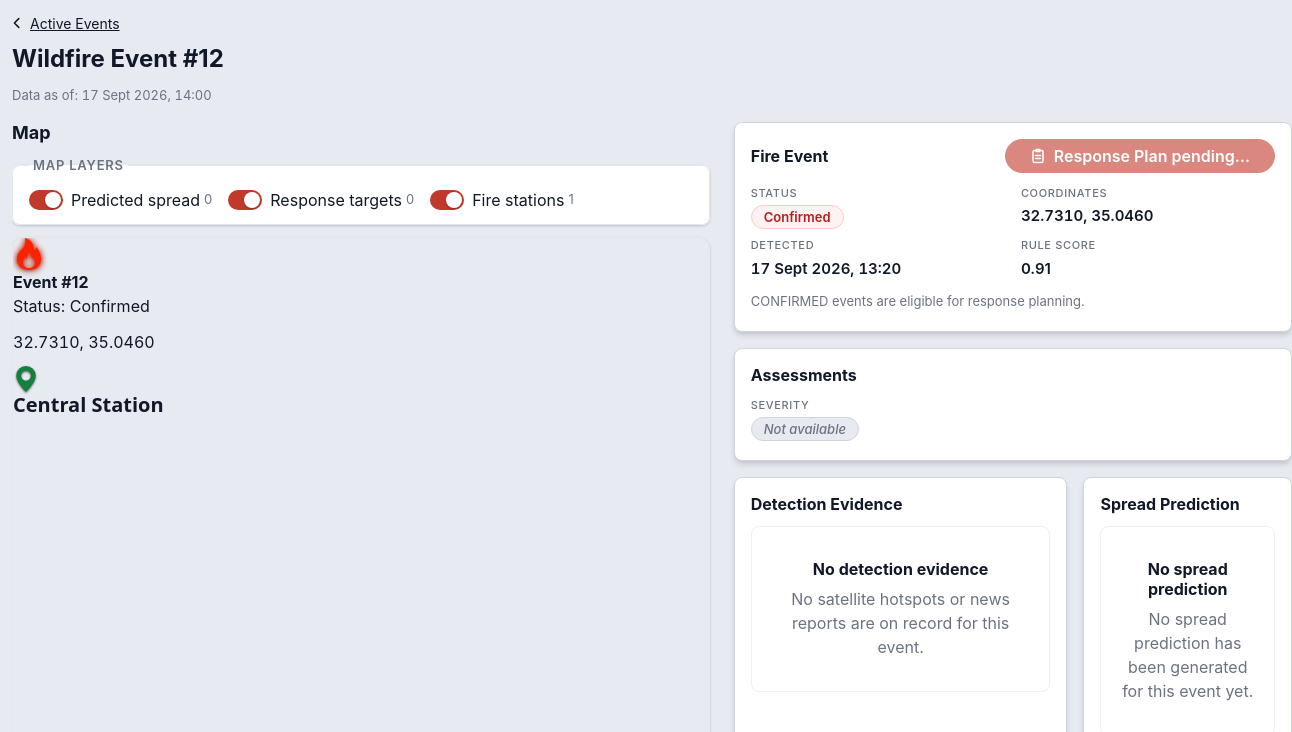
Test: EventDetailsPage › hides a layer's markers when its layer control is unchecked
The image size is (1292, 732).
expect the text "Data as of:" is shown: met, box x1=12 y1=87 x2=82 y2=103
expect the number of elements with test id "marker" is 2: met, box x1=13 y1=238 x2=155 y2=352; x1=13 y1=366 x2=164 y2=418
Click the checkbox labelled "Fire stations 1" at [447, 200], box x1=430 y1=190 x2=464 y2=210
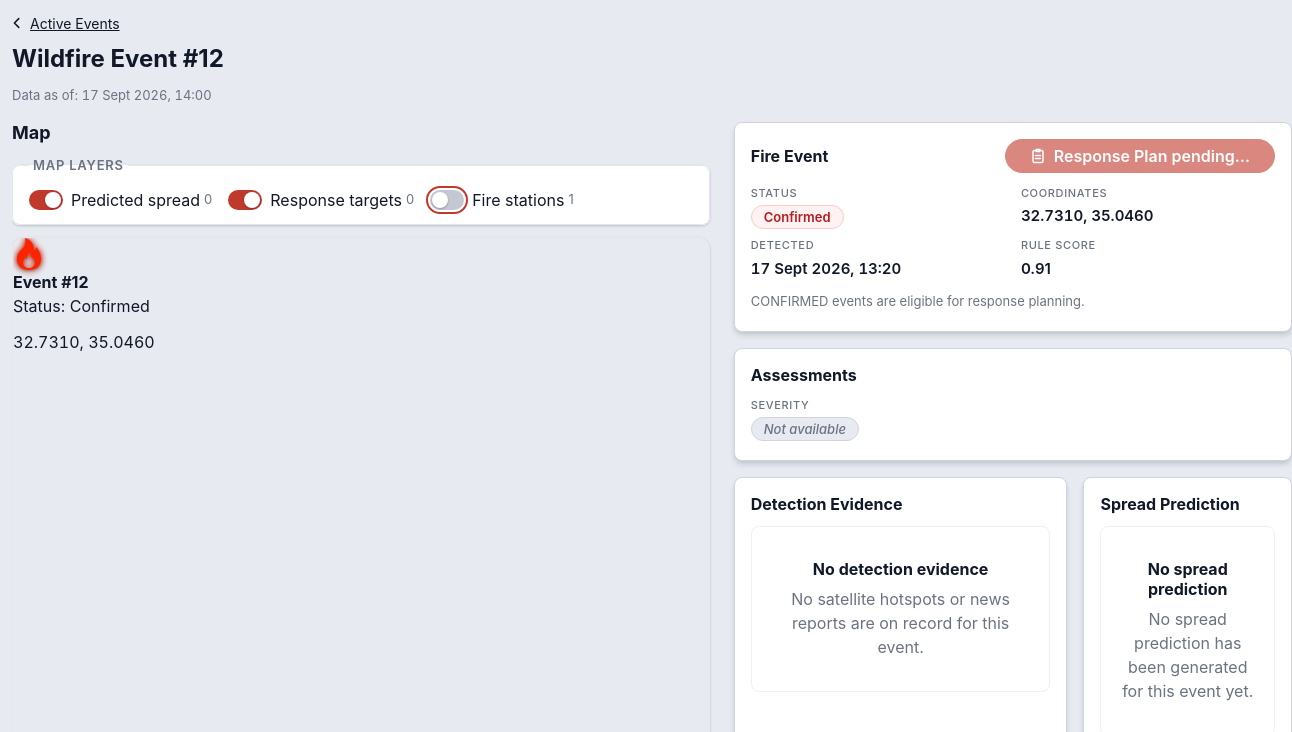
expect the number of elements with test id "marker" is 1: met, box x1=13 y1=238 x2=155 y2=352
